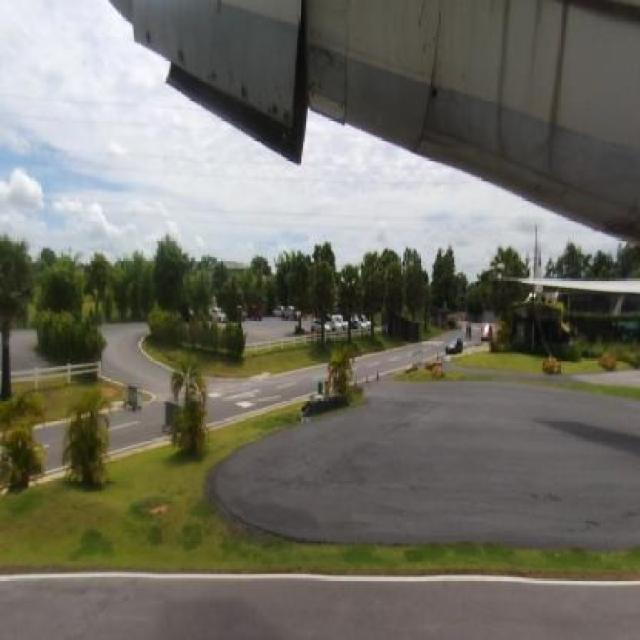Rust: (408, 25, 466, 173), (312, 34, 359, 138), (541, 1, 568, 182), (489, 2, 516, 168), (264, 86, 299, 154), (167, 37, 190, 77), (202, 54, 222, 98), (234, 74, 254, 111), (142, 21, 153, 48)
